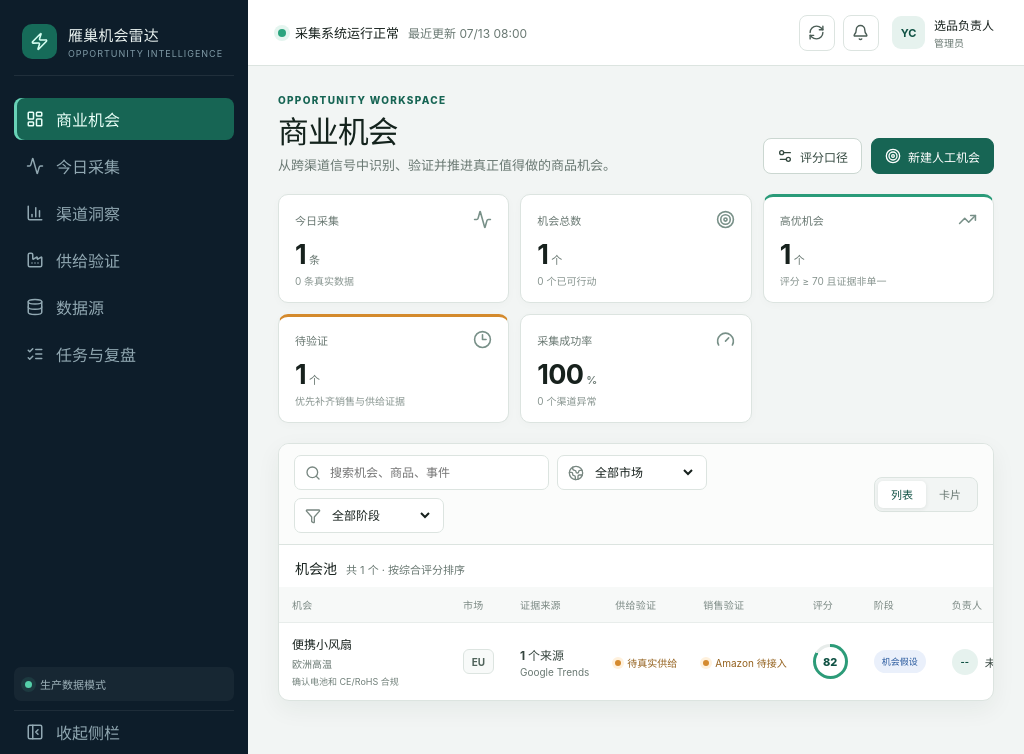
Test case: App › creates a persisted manual opportunity through the workbench
Expected: the text "便携小风扇" is shown, [292, 637, 352, 652]
Step 1. Click the button "新建人工机会" → click(932, 156), box [871, 138, 994, 174]
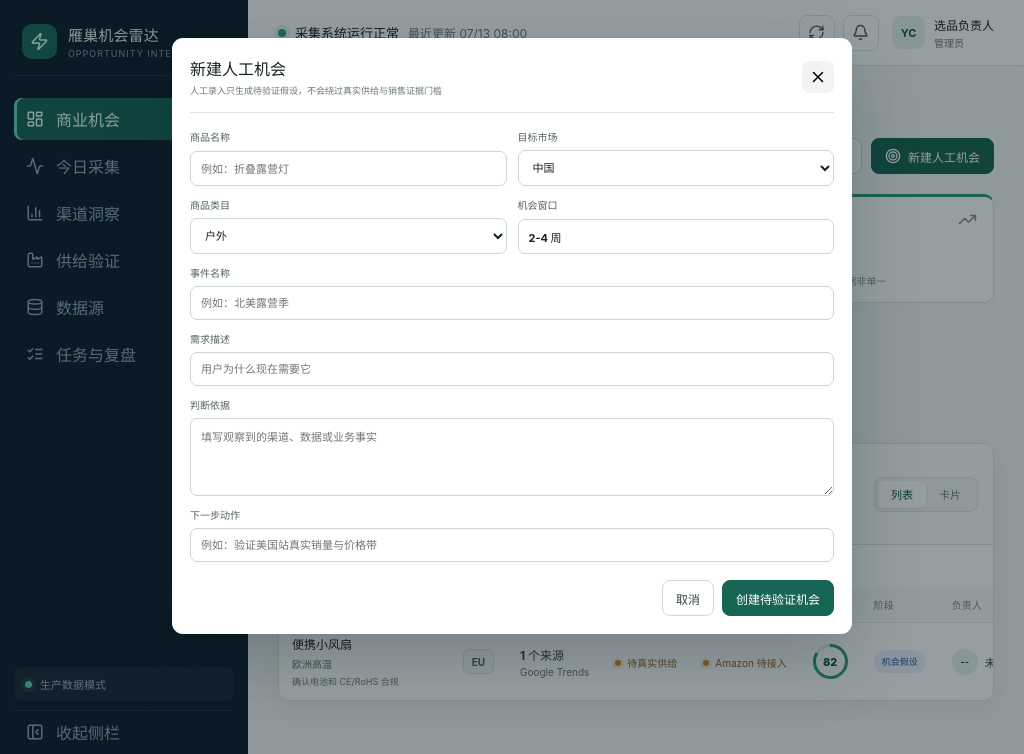
Step 2. Type "折叠露营灯" into the field labelled "商品名称" → (348, 169), box [190, 151, 506, 186]
Step 3. Select "美国" in the dropdown labelled "目标市场" → (676, 168), box [518, 150, 834, 186]
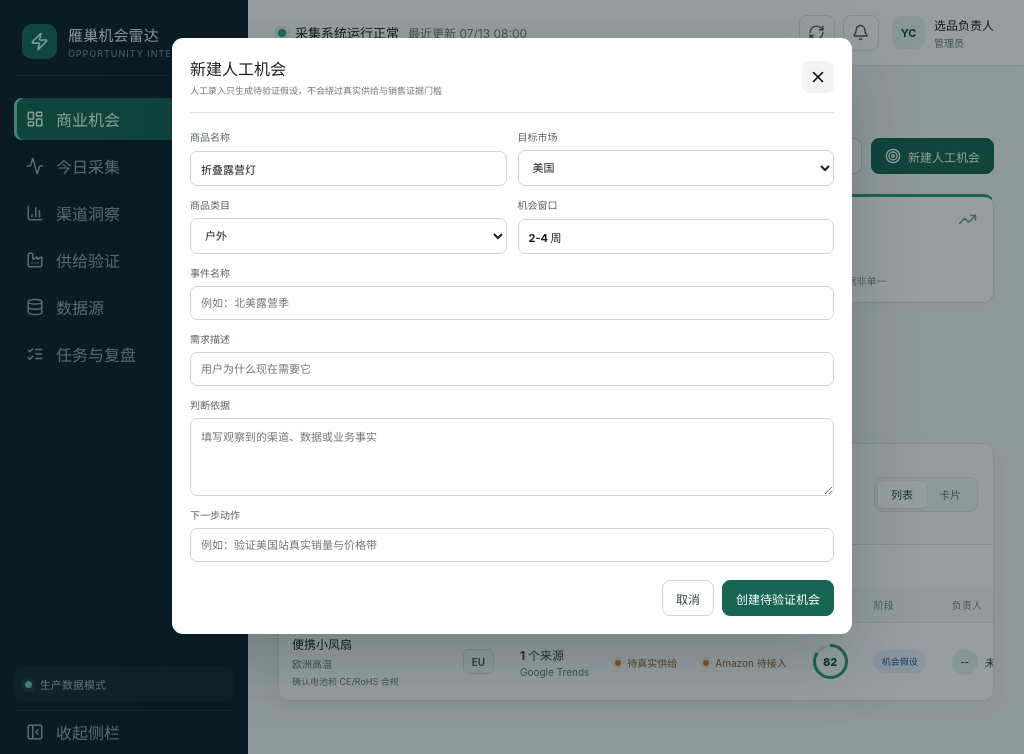
Step 4. Type "北美露营季" into the field labelled "事件名称" → (512, 303), box [190, 286, 834, 320]
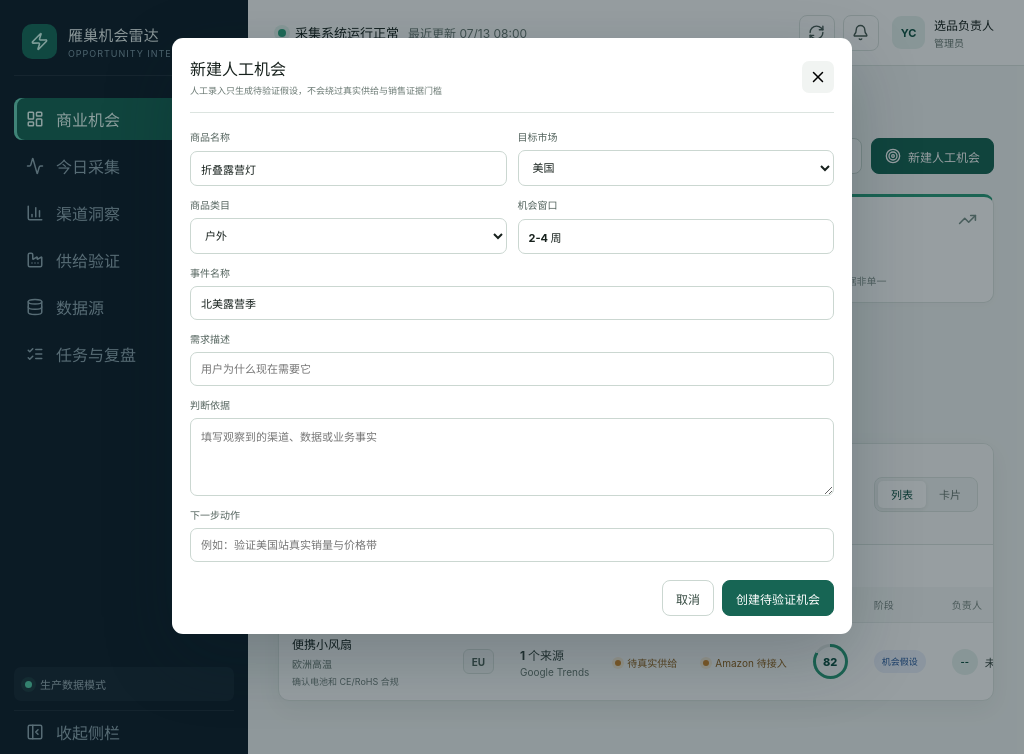
Step 5. Type "户外照明" into the field labelled "需求描述" → (512, 369), box [190, 352, 834, 386]
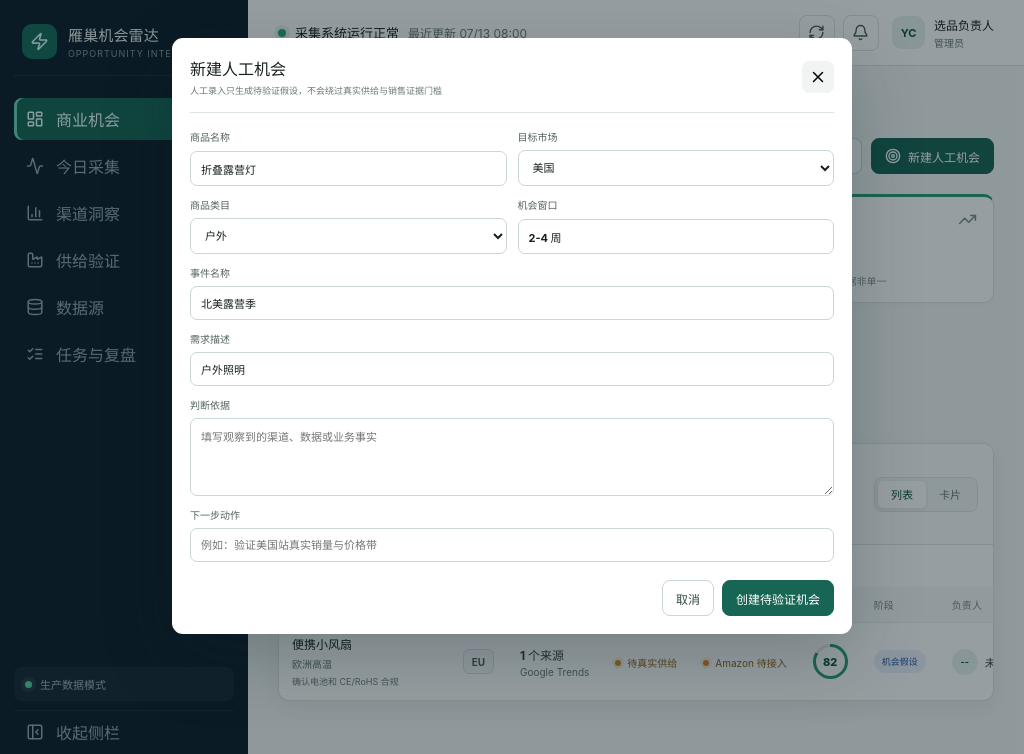
Step 6. Type "搜索和询价同步增长" into the text box labelled "判断依据" → (512, 457), box [190, 418, 834, 496]
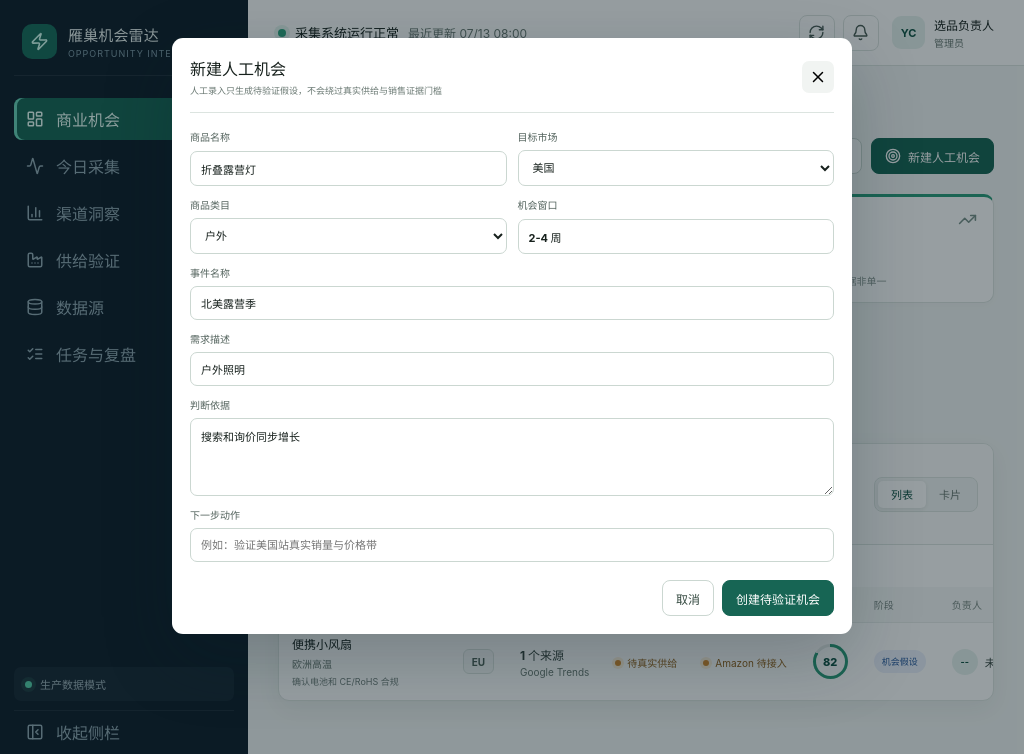
Step 7. Click the button "创建待验证机会" → click(778, 598), box [722, 580, 834, 616]
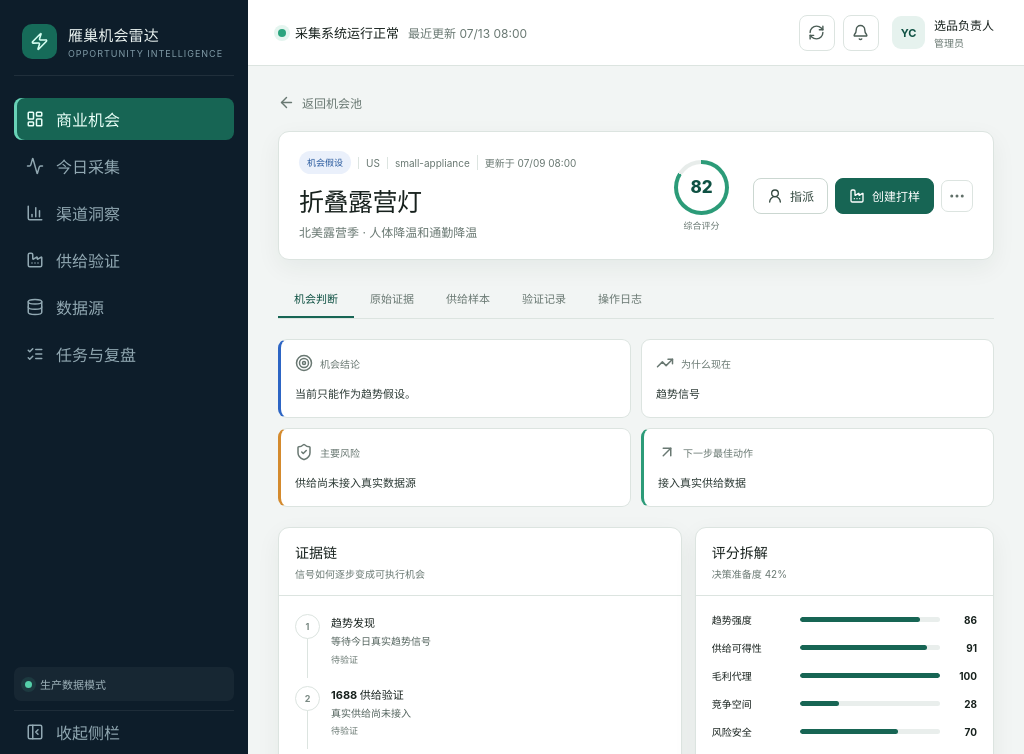
Result: the heading "折叠露营灯" is shown at [299, 187, 422, 217]
